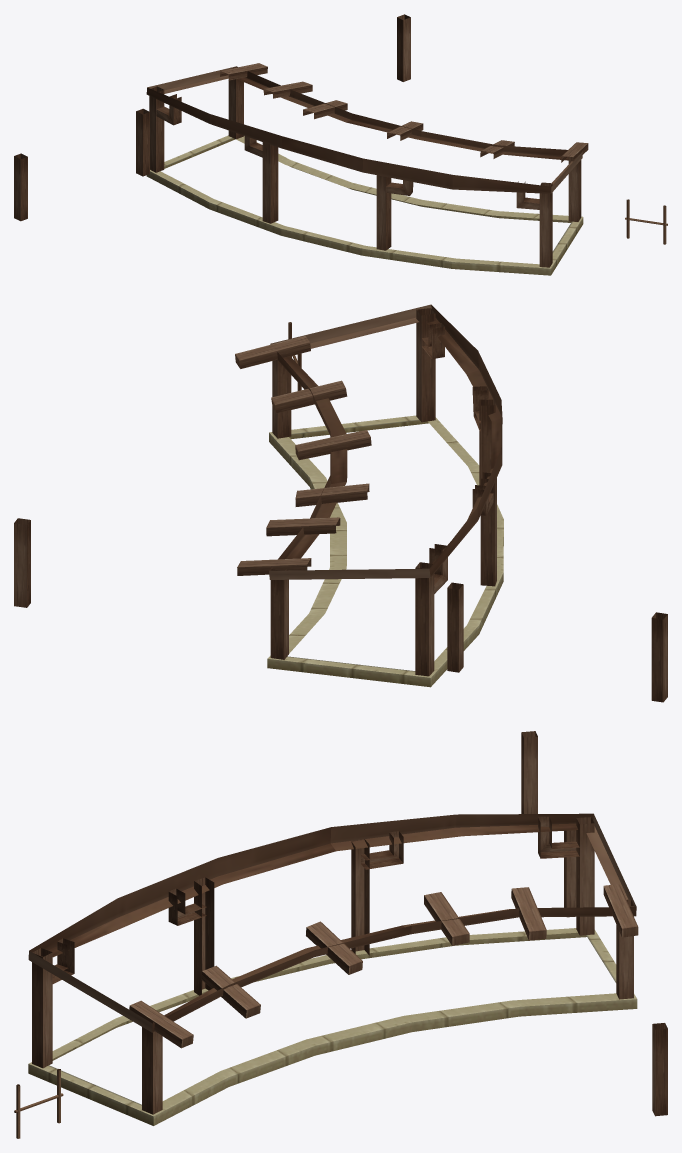
Rendered from Area_09_20.fbx.
The picture shows the model from 3 angles, top to bottom: view 1: azimuth 30°, elevation 25°; view 2: azimuth 150°, elevation 25°; view 3: azimuth 270°, elevation 25°; orthographic projection. The views are drawn at different scales.
Visible parts, largest first — view 1: Area_09_20; view 2: Area_09_20; view 3: Area_09_20.
Part boxes in pixels (x1,y1,x2,y2): Area_09_20: (14,14,667,275); Area_09_20: (14,304,667,702); Area_09_20: (14,731,667,1138).
Size of the model in its own units: 3060 by 619 by 2664.
